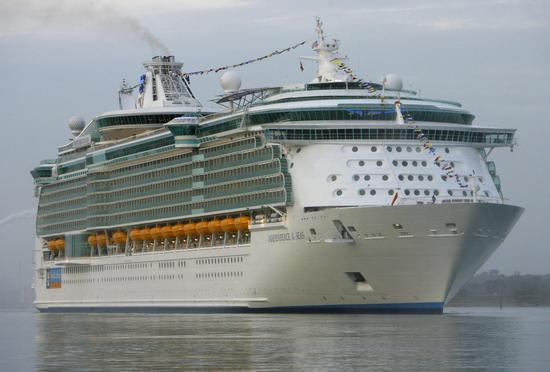youlun: (25, 15, 527, 315)
